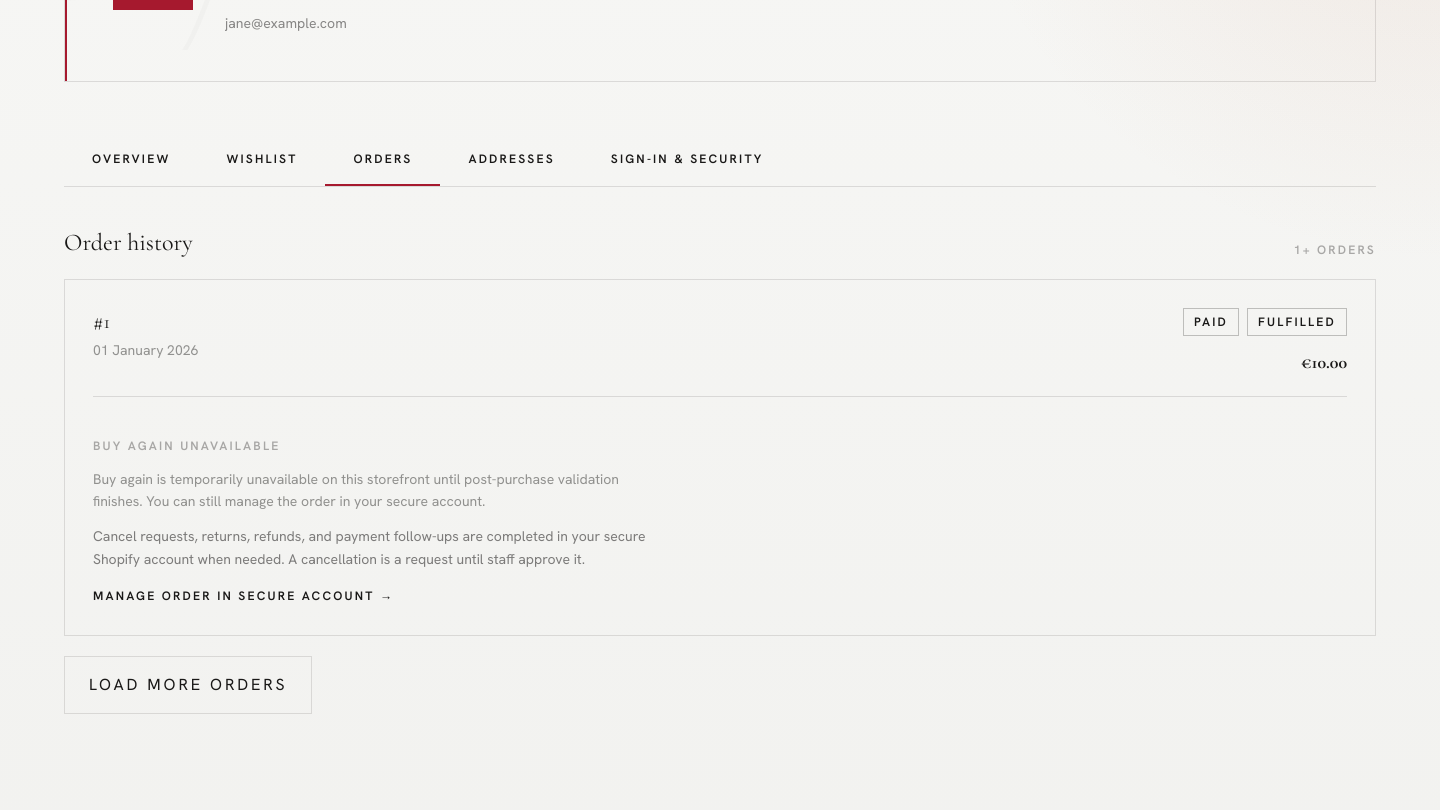
Test: ShopifyProfileShell orders tab pagination (REV-13) › appends the next page of orders and updates the count once loaded
(page scrolled)
Click the button "Load more orders" at (188, 685), box [64,656,312,714]
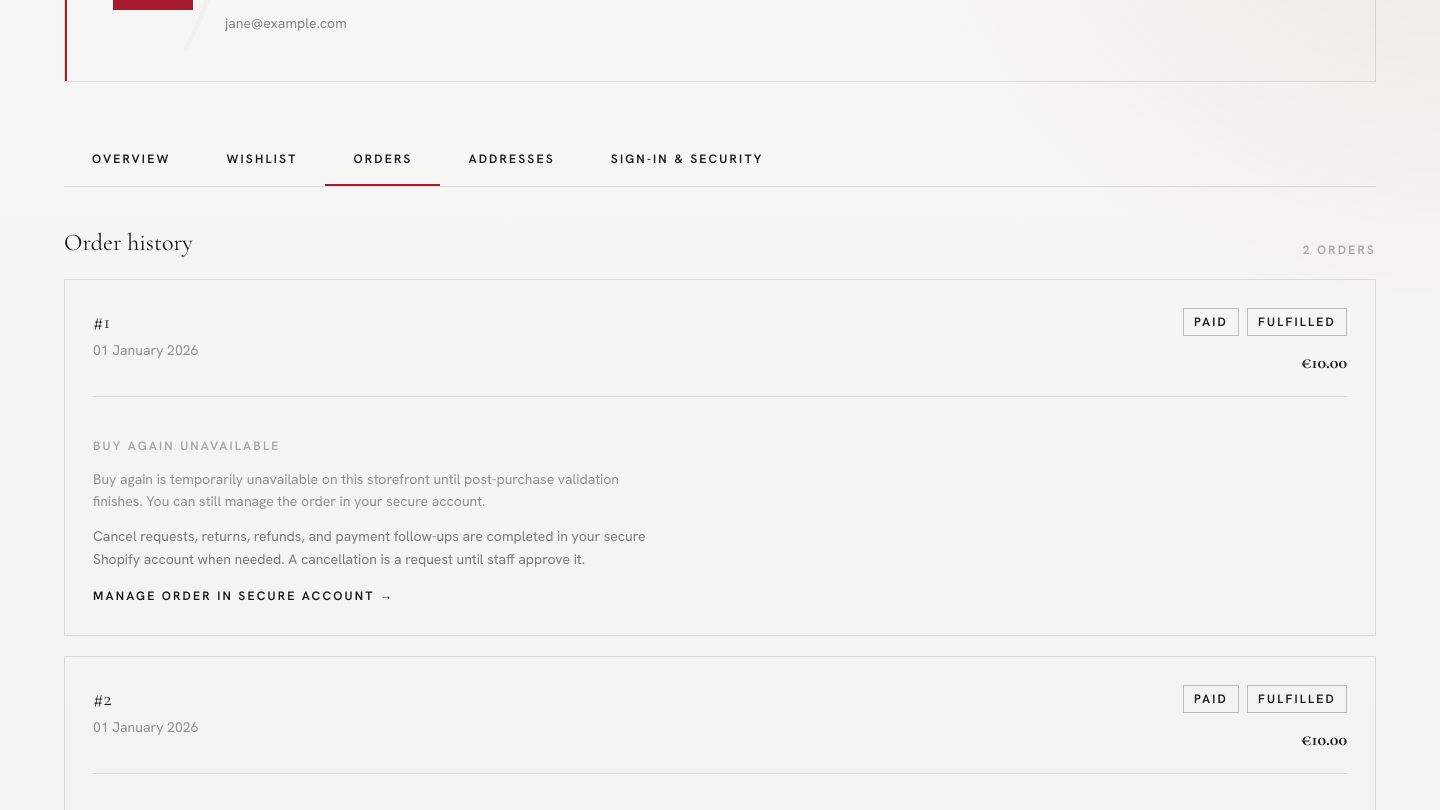
Result: the text "2 orders" is shown at [1303,241,1376,259]
Result: the text "#2" is shown at [93,687,112,711]
Result: the button "Load more orders" is gone
